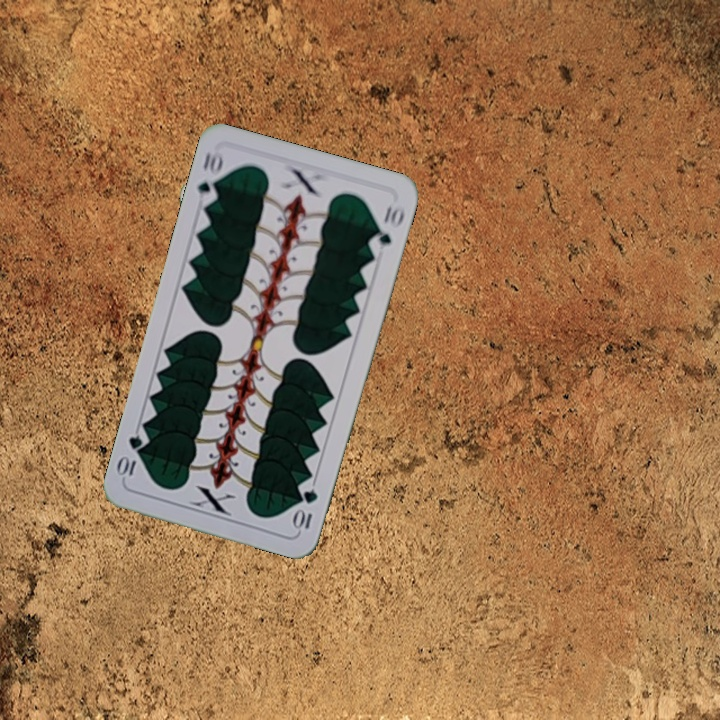G10: (193, 147, 226, 207), (291, 485, 321, 534)
